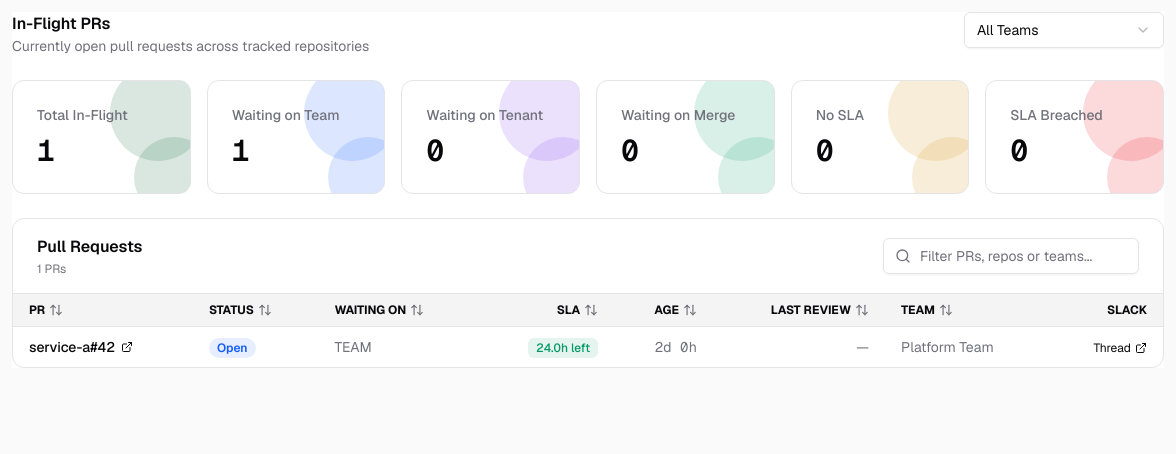
Test: InFlightPrsTab › Rendering › should show search-specific empty message when filter has no matches
Type "nonexistent" into the field with placeholder "Filter PRs, repos or teams...". click: (1011, 256)
box: x1=883 y1=238 x2=1139 y2=274
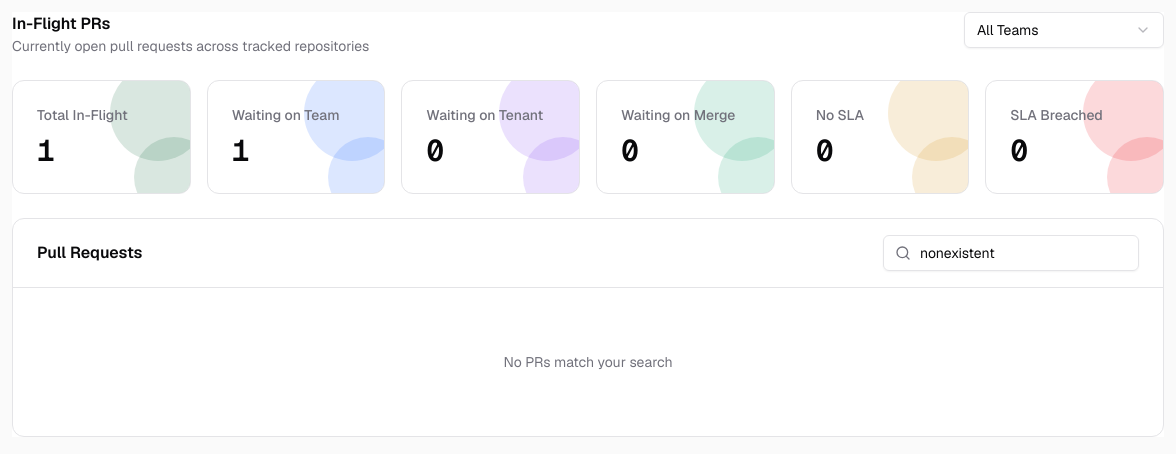
Check: the text "No PRs match your search" is shown, box x1=503 y1=353 x2=673 y2=371
